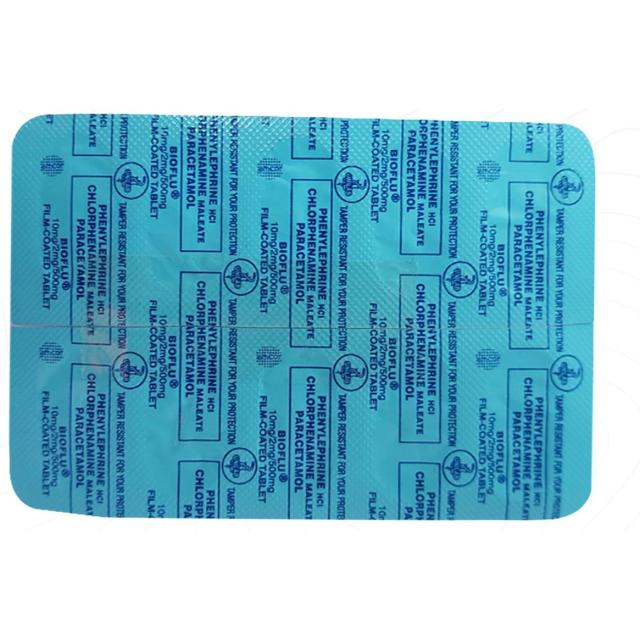blister: (5, 108, 597, 524)
